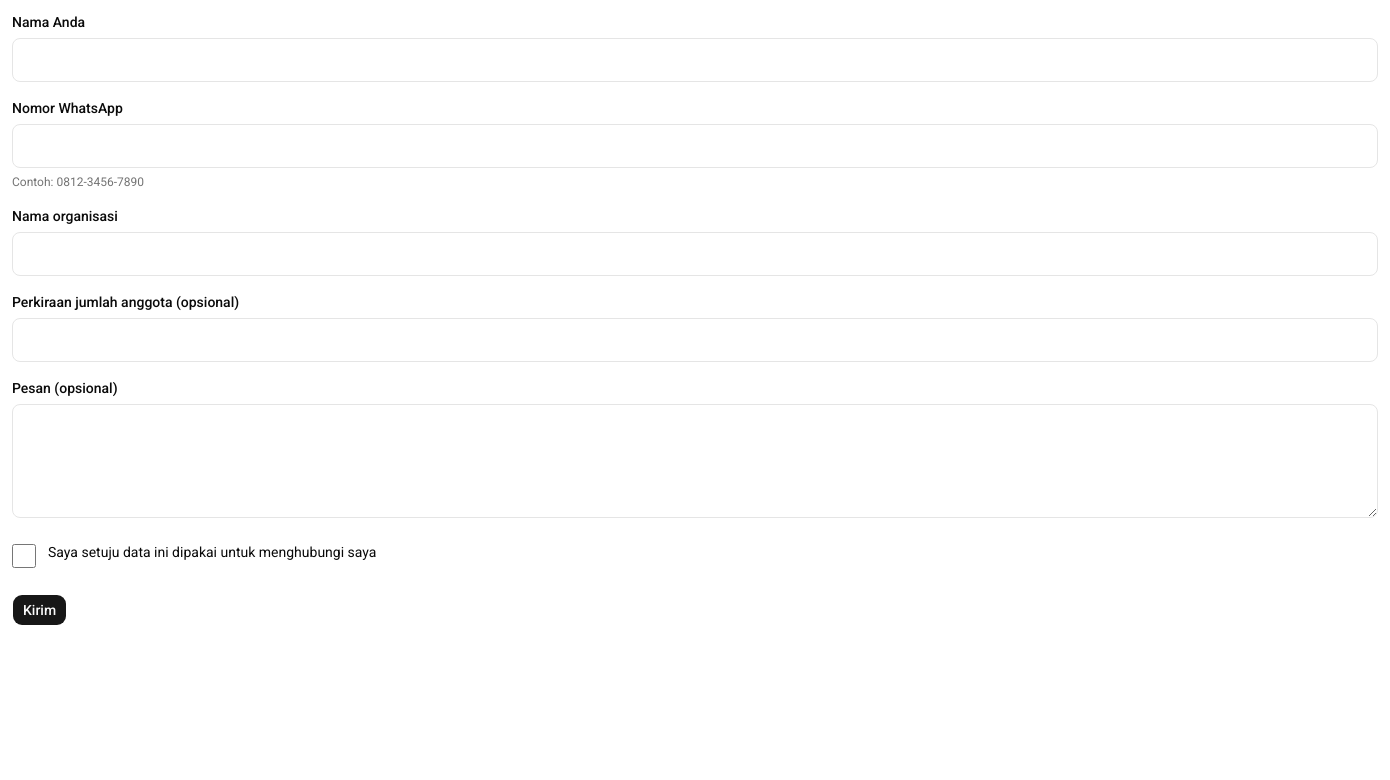
InterestForm › rejects a non-numeric member count on the client
In the field labelled "Nama Anda": (695, 60) [12, 38, 1378, 82], type "Budi"
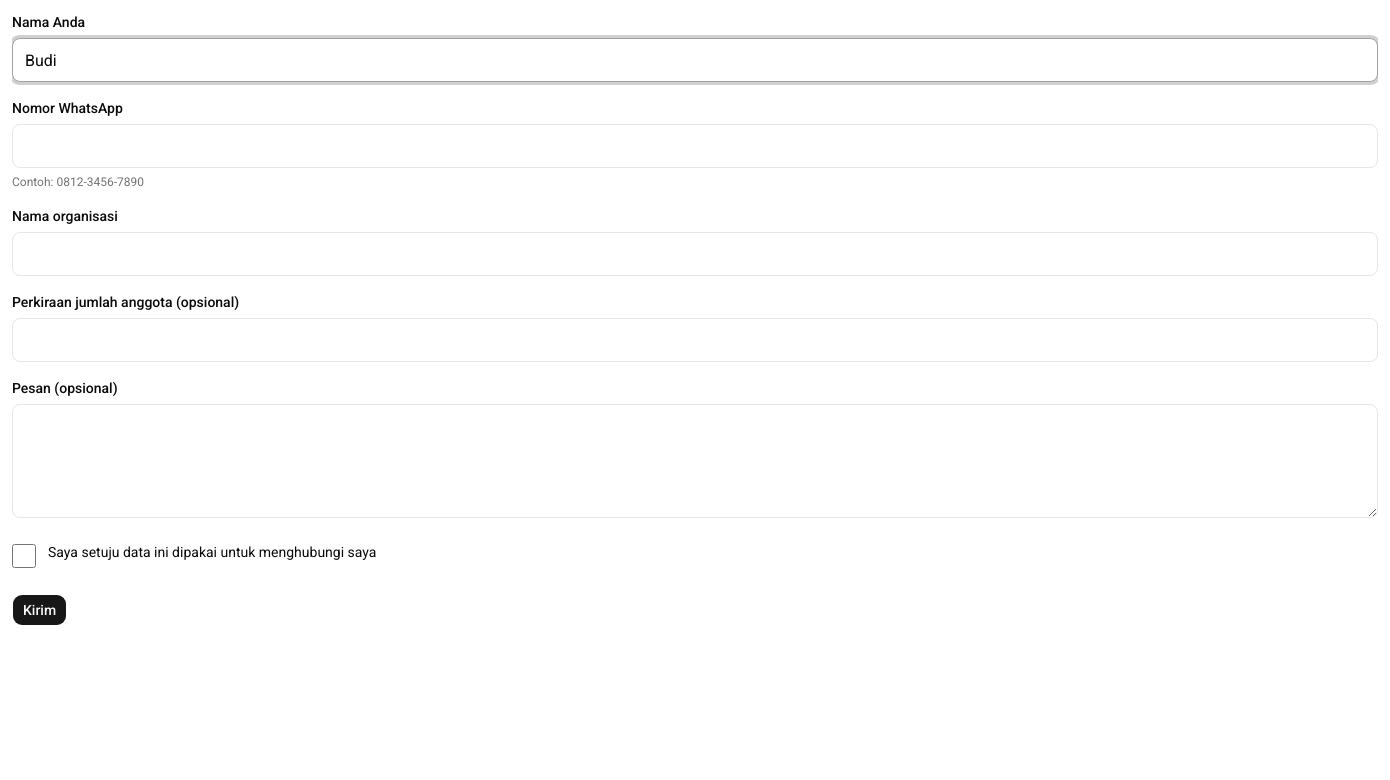
In the field labelled "Nomor WhatsApp": (695, 146) [12, 124, 1378, 168], type "0812-3456-7890"
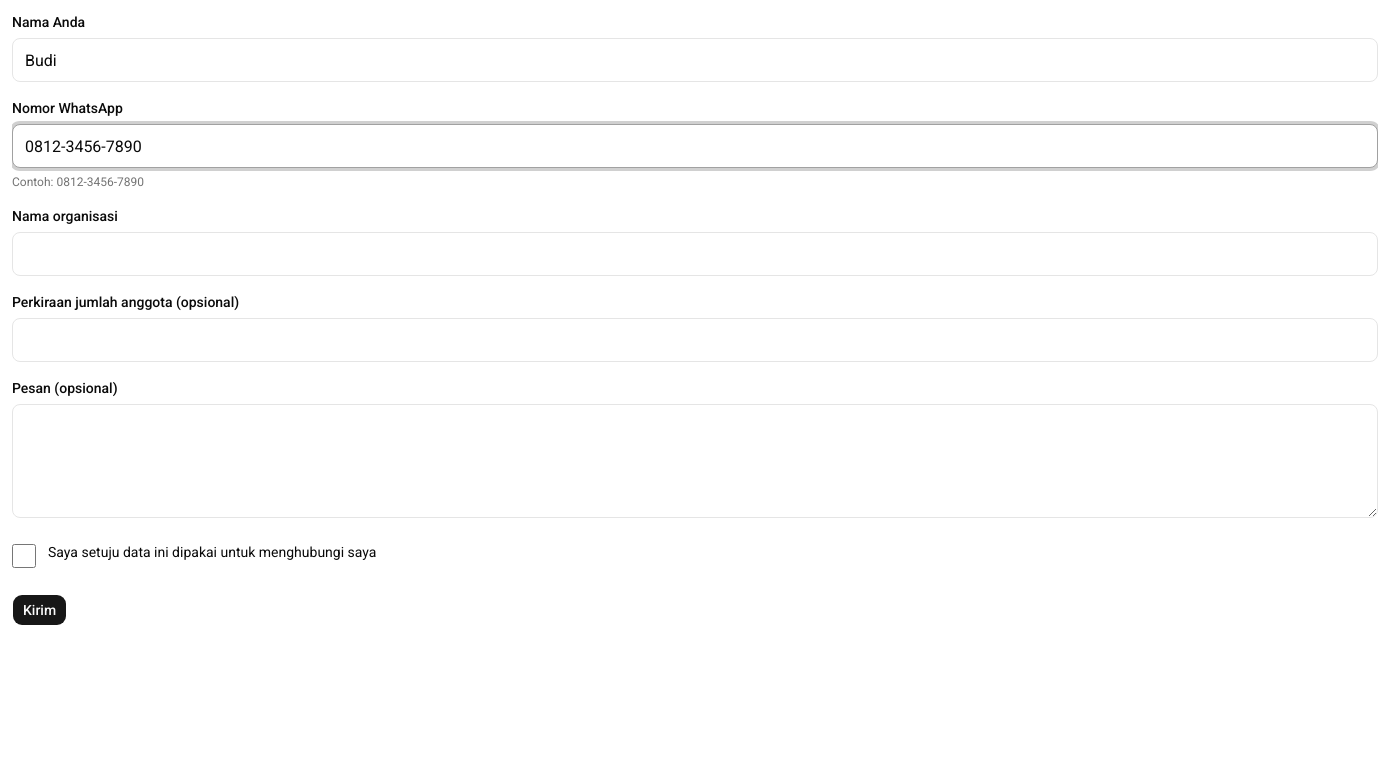
In the field labelled "Nama organisasi": (695, 254) [12, 232, 1378, 276], type "Majelis An-Nur"
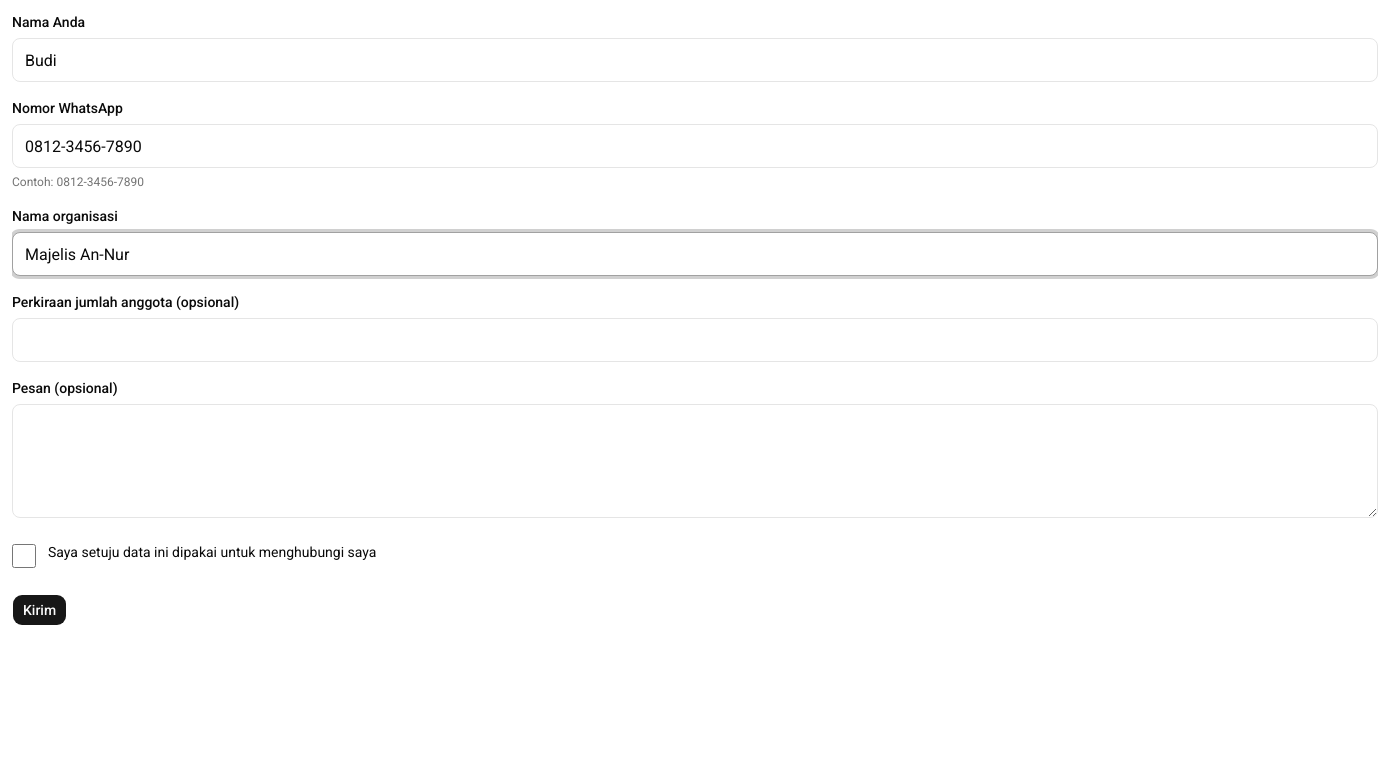
Click the checkbox labelled "Saya setuju data ini dipakai untuk menghubungi saya": (24, 556) [12, 544, 36, 568]
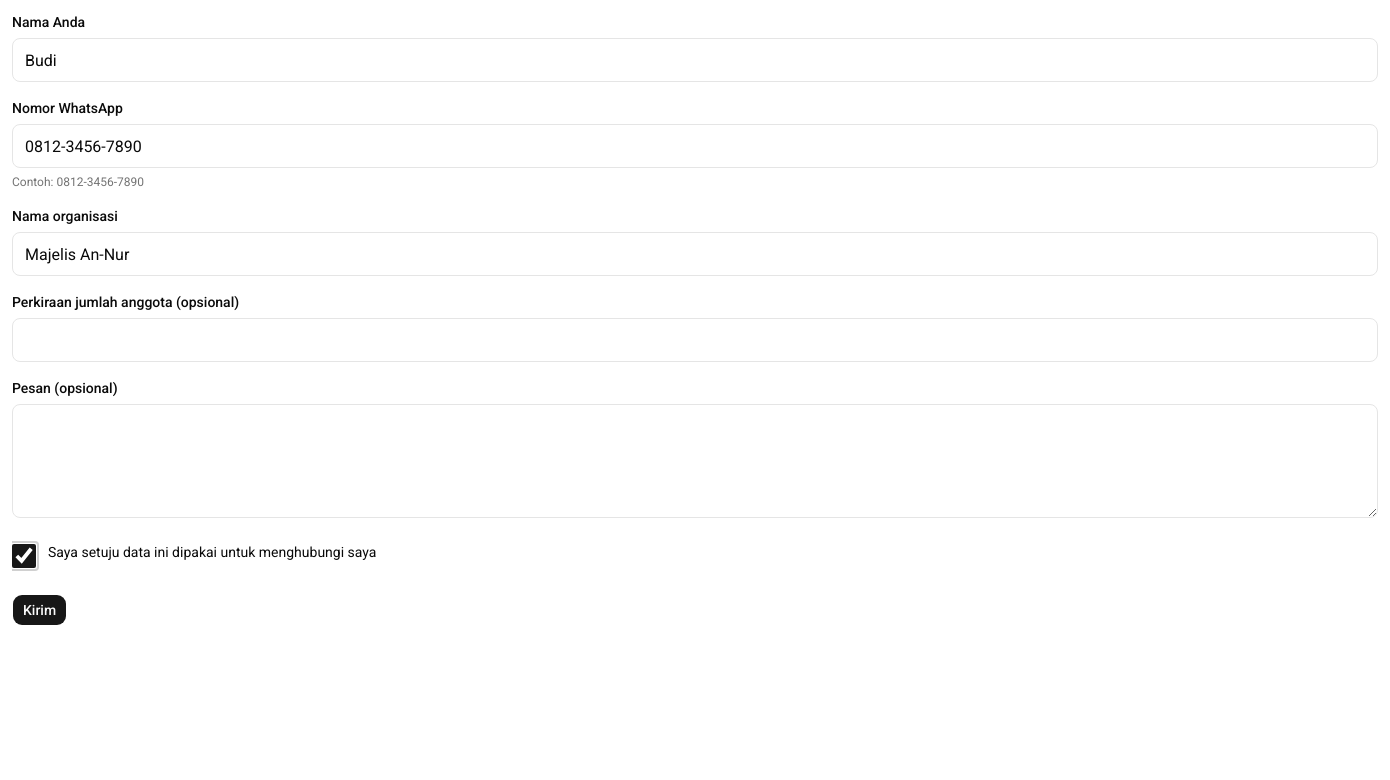
In the field labelled "Perkiraan jumlah anggota (opsional)": (695, 340) [12, 318, 1378, 362], type "banyak"
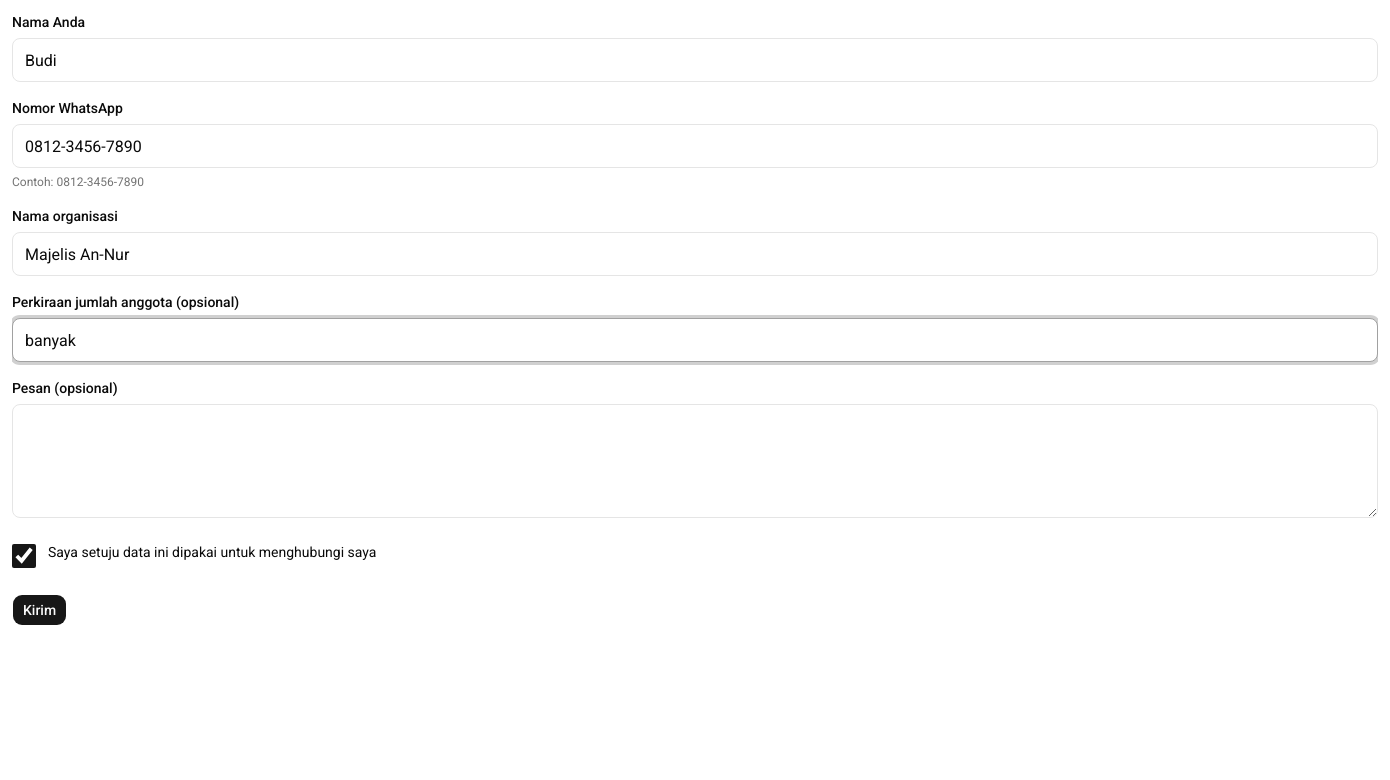
Click the button "Kirim": (40, 610) [12, 594, 67, 626]
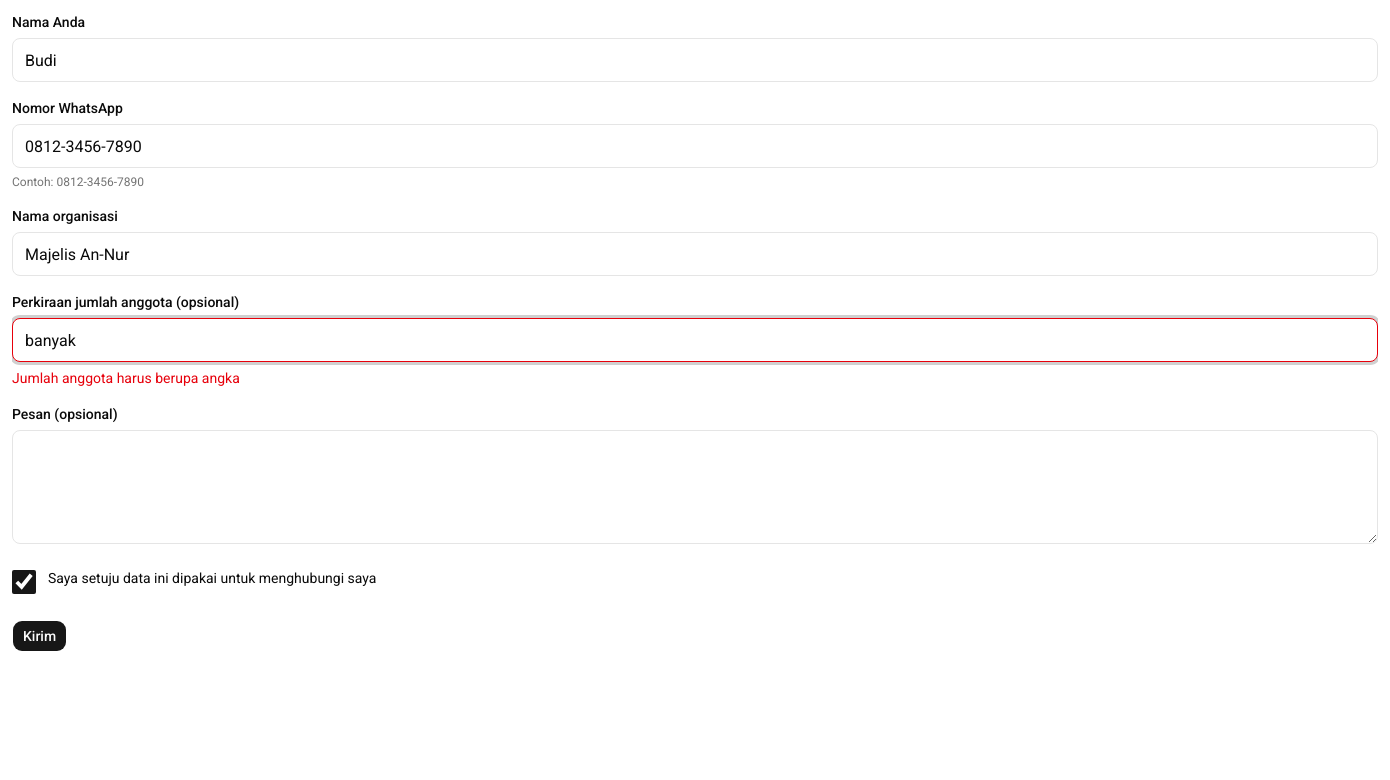
Check: the message reads "Jumlah anggota harus berupa angka", box [12, 370, 240, 386]
